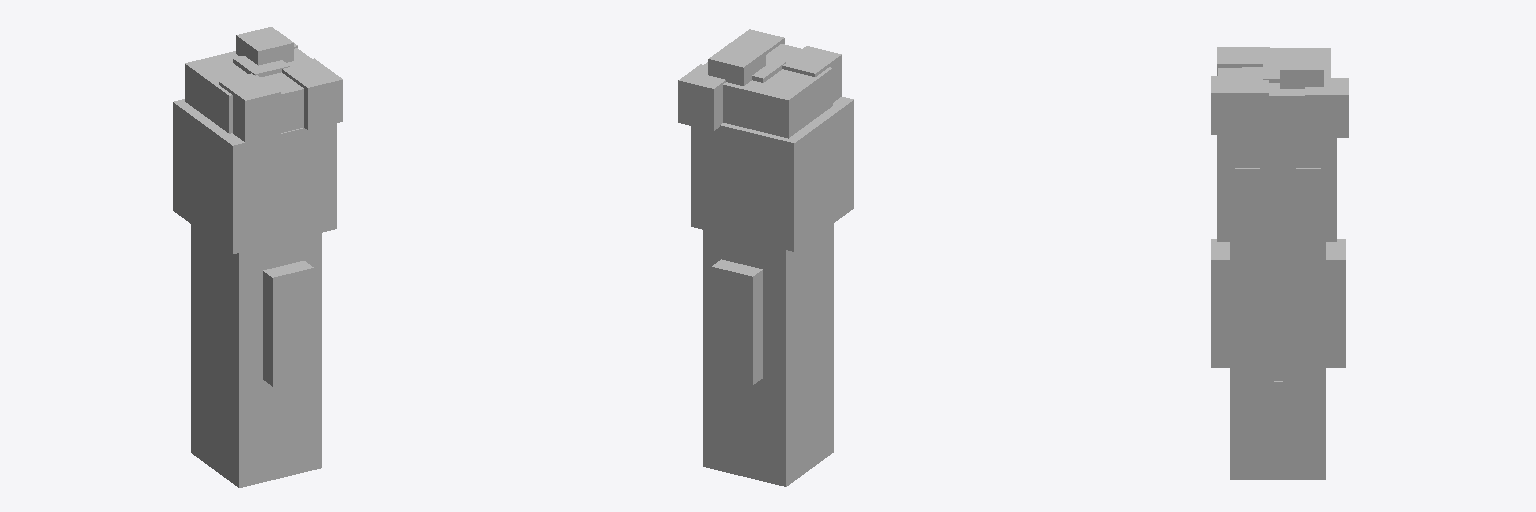
The model's file is human.obj.
3 renders of one model, left to right at view 1: azimuth 30°, elevation 25°; view 2: azimuth 150°, elevation 25°; view 3: azimuth 270°, elevation 25°, orthographic.
Parts seen in each view (by area): view 1: Cube, Cube.001, Cube.007, Cube.005; view 2: Cube, Cube.001, Cube.007, Cube.006; view 3: Cube, Cube.007, Cube.001, Cube.006, Cube.005, Cube.004.
Boxes of the visible parts, x1,y1,x2,y2 form: Cube: [191, 224, 321, 487]; Cube.001: [173, 99, 336, 253]; Cube.007: [185, 27, 342, 142]; Cube.005: [263, 261, 313, 386]; Cube: [703, 224, 833, 486]; Cube.001: [691, 97, 853, 251]; Cube.007: [678, 29, 841, 138]; Cube.006: [711, 259, 762, 384]; Cube: [1230, 242, 1325, 479]; Cube.007: [1211, 47, 1348, 138]; Cube.001: [1217, 135, 1336, 241]; Cube.006: [1326, 239, 1345, 367]; Cube.005: [1211, 239, 1229, 367]; Cube.004: [1274, 381, 1282, 479].
Size of the model in its own units: 2.11 by 7.51 by 2.31.